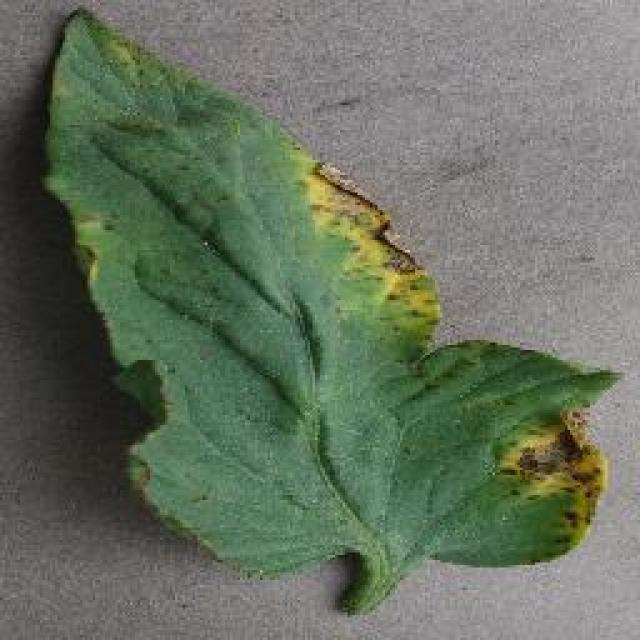Tomato___Bacterial_spot: (43, 7, 631, 625)
